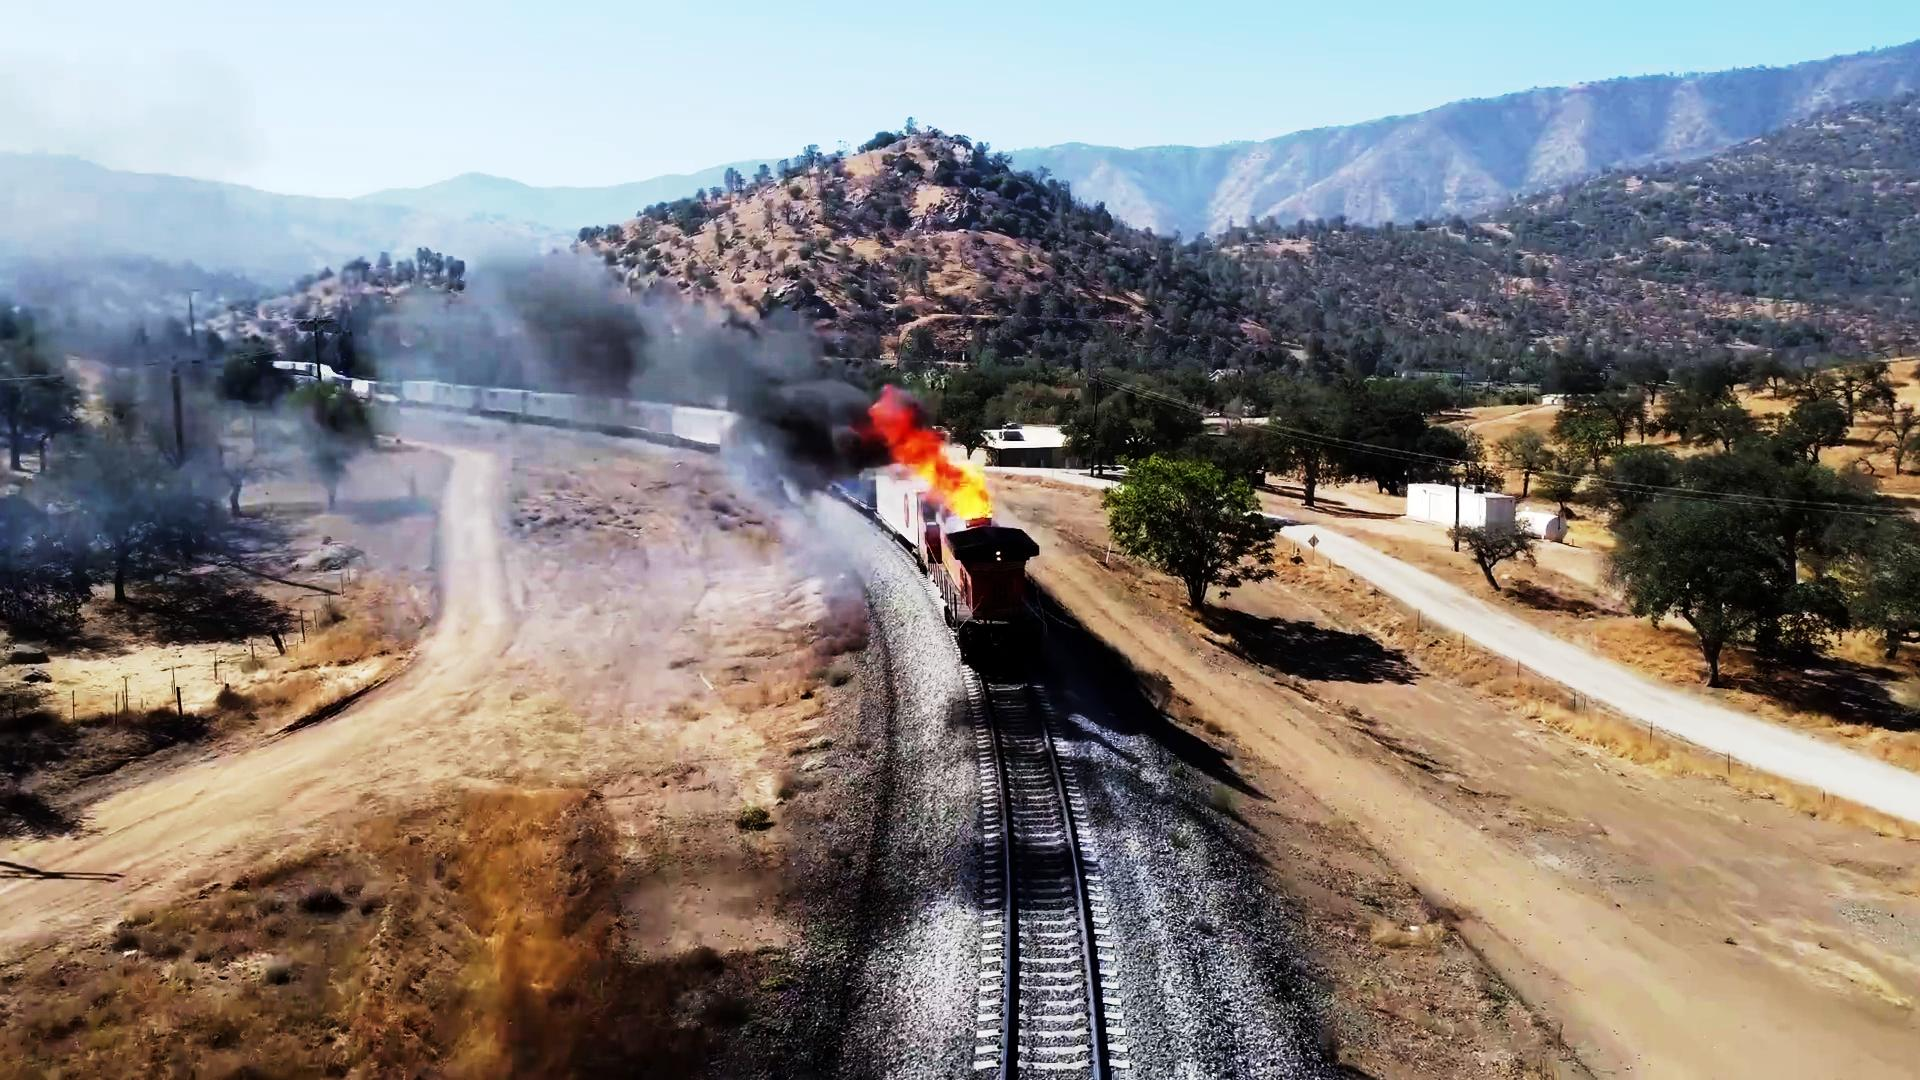fire: (856, 407, 938, 471), (938, 458, 1000, 522)
smoke: (736, 343, 853, 475)
